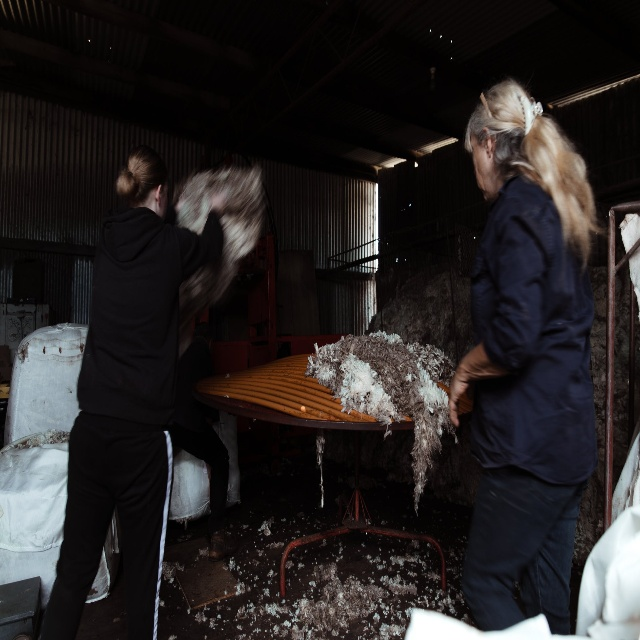Sin_guantes: (448, 364, 469, 427)
